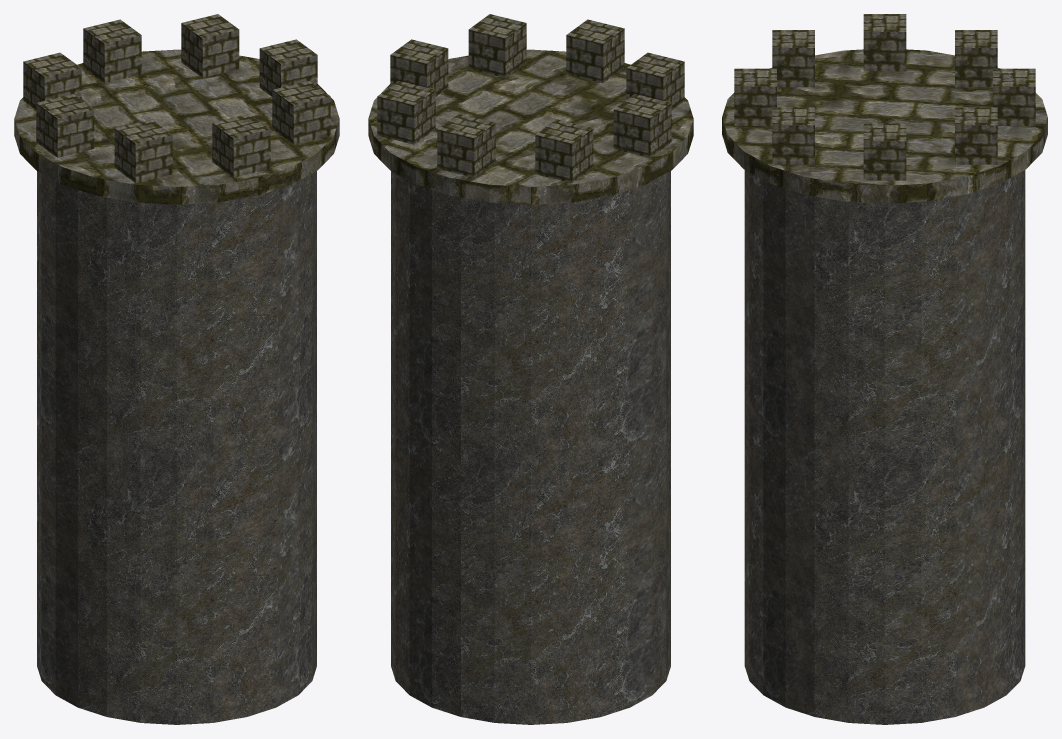
File: wall_tower.glb
3 renders of one model, left to right at view 1: azimuth 30°, elevation 25°; view 2: azimuth 150°, elevation 25°; view 3: azimuth 270°, elevation 25°, orthographic.
Parts seen in each view (by area): view 1: wall_tower; view 2: wall_tower; view 3: wall_tower.
Boxes of the visible parts, x1,y1,x2,y2 form: wall_tower: [14, 14, 339, 724]; wall_tower: [368, 14, 693, 724]; wall_tower: [722, 14, 1047, 724].
Size of the model in its own units: 5.8 by 11.55 by 5.8.
Materials: 2 (2 with a texture image).
